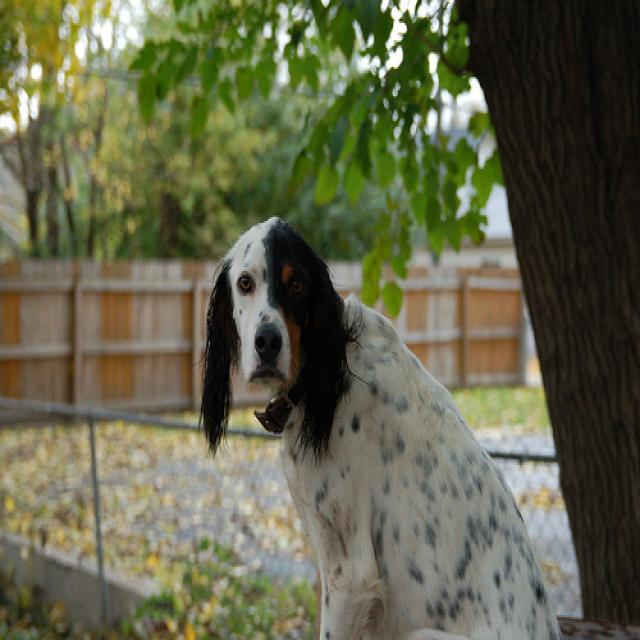dog-english_setter: (196, 215, 576, 636)
